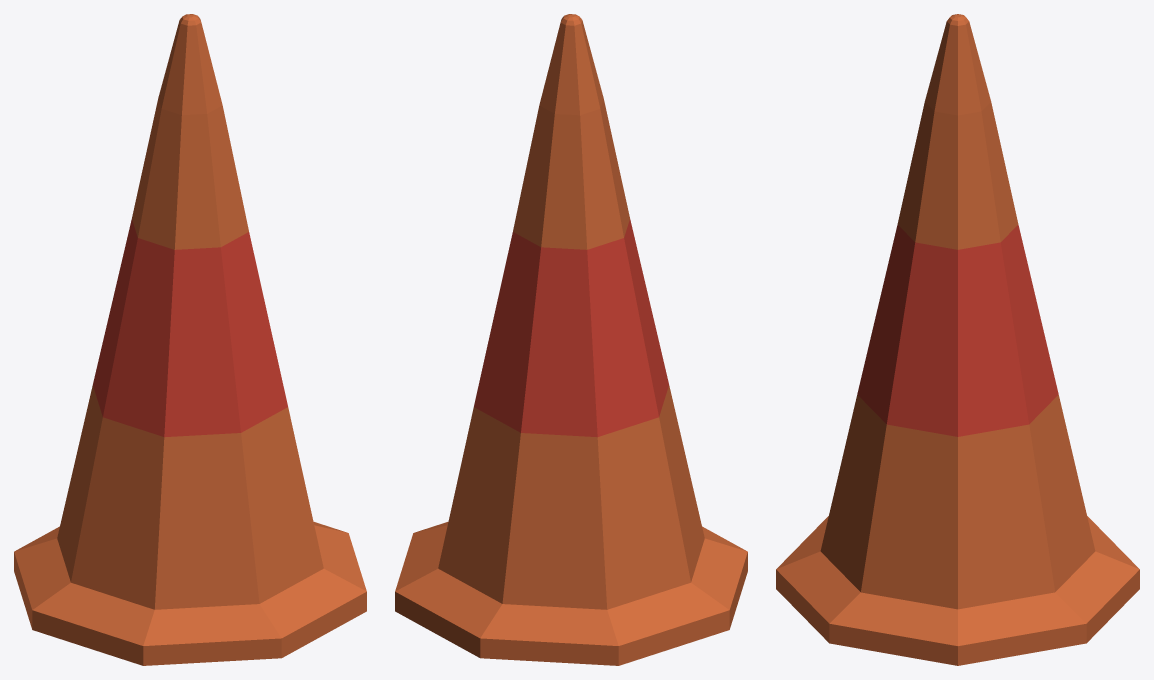
The picture shows the model from 3 angles, left to right: view 1: azimuth 30°, elevation 25°; view 2: azimuth 150°, elevation 25°; view 3: azimuth 270°, elevation 25°; orthographic projection.
Visible parts, largest first — view 1: cone; view 2: cone; view 3: cone.
Part boxes in pixels (left/top/right/bottom): cone: left=14, top=14, right=366, bottom=665; cone: left=395, top=14, right=747, bottom=665; cone: left=776, top=14, right=1139, bottom=665.
Bounding box in the file's own units: 0.2856 × 0.4965 × 0.2856.
